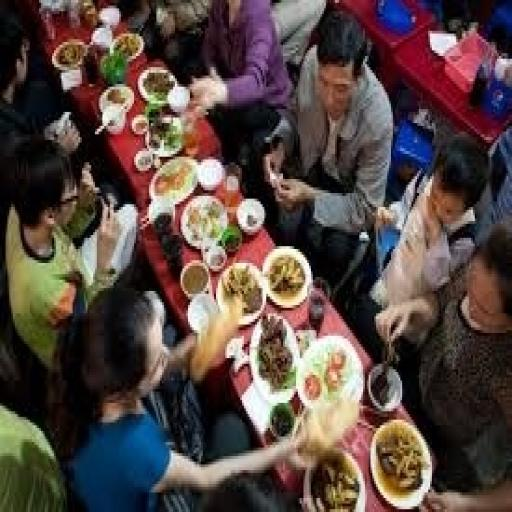eating: (4, 6, 508, 506)
